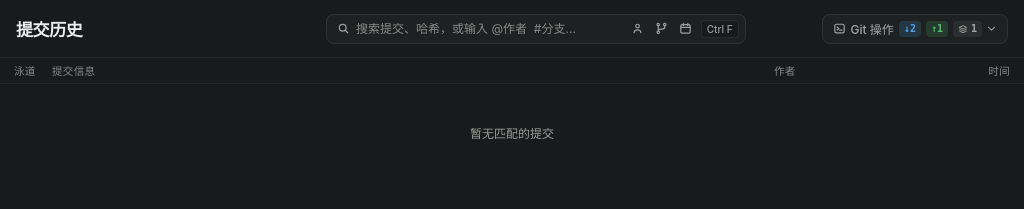
Test case: CommitComposer (4.4 enhancements) › applies custom date range filter in GitLogView omnibar
Click the button named "按日期范围筛选".
click(686, 28)  # box [675,18,697,40]
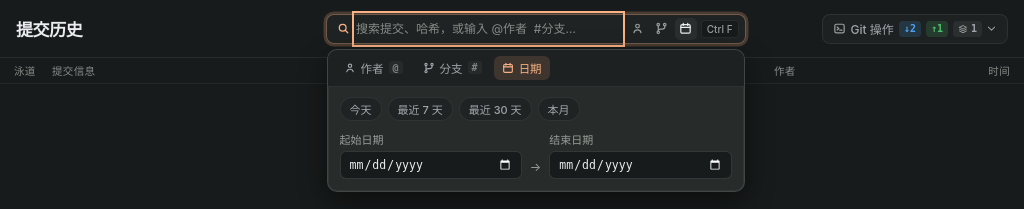
Type "2026-11-01" into the date field labelled "起始日期".
click(431, 164); type("2026-11-01")  # box [340,150,522,178]
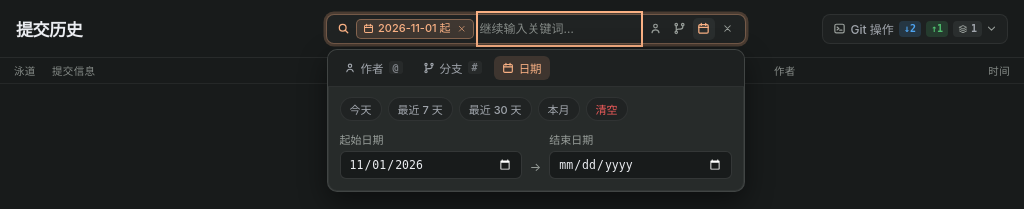
Type "2026-11-10" into the date field labelled "结束日期".
click(640, 164); type("2026-11-10")  # box [549,150,732,178]
Wait 350 ms
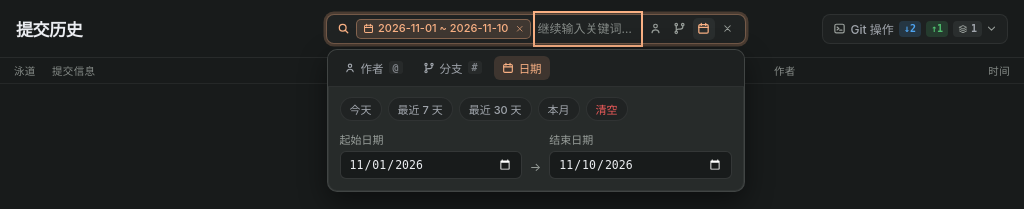
Now the text "2026-11-01 ~ 2026-11-10" is shown, box [378,23,508,34]
